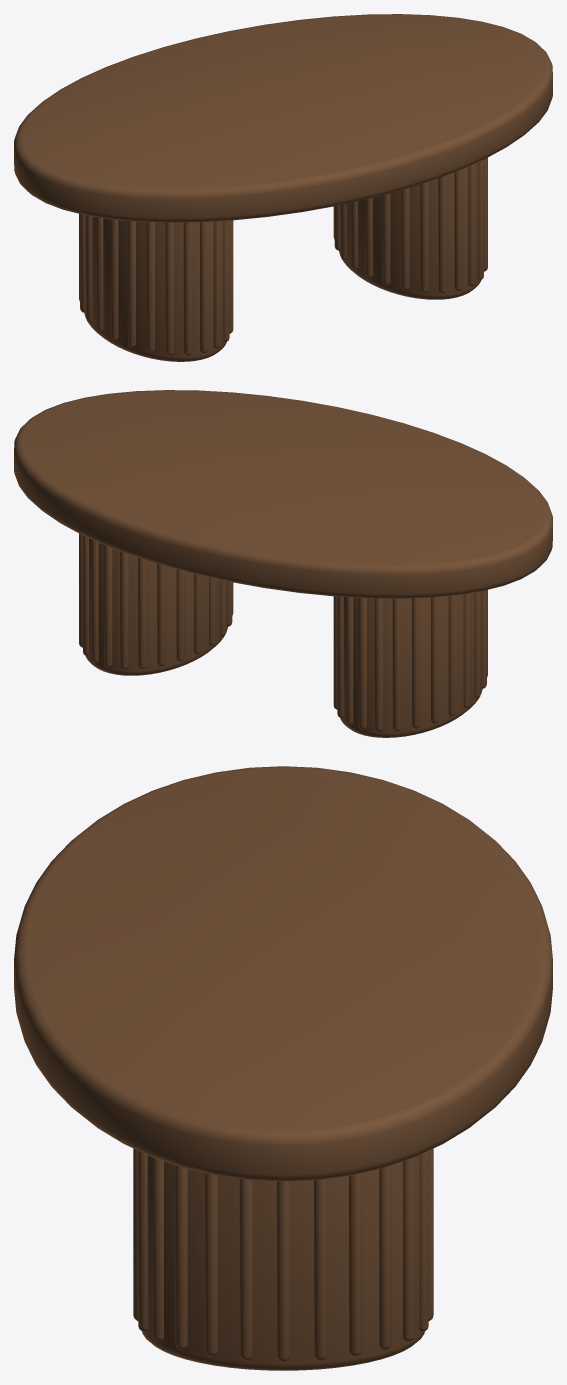
File: table.glb
3 renders of one model, top to bottom at view 1: azimuth 30°, elevation 25°; view 2: azimuth 150°, elevation 25°; view 3: azimuth 270°, elevation 25°, orthographic. The views are drawn at different scales.
Visible parts, largest first — view 1: Fluted pedestal detail; view 2: Fluted pedestal detail; view 3: Fluted pedestal detail.
Boxes of the visible parts, x1,y1,x2,y2 form: Fluted pedestal detail: [14, 14, 552, 361]; Fluted pedestal detail: [14, 390, 552, 737]; Fluted pedestal detail: [14, 766, 552, 1370].
Size of the model in its own units: 1.2 by 0.4375 by 0.7321.
